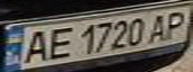0: (124, 15, 151, 47)
1: (75, 21, 96, 56)
2: (109, 17, 133, 51)
7: (93, 19, 115, 53)
A: (18, 28, 54, 64), (145, 11, 175, 43)
E: (42, 25, 75, 61)
P: (160, 8, 193, 41)
